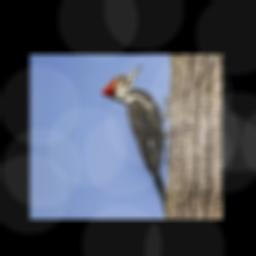Woodpecker: (101, 64, 170, 214)
